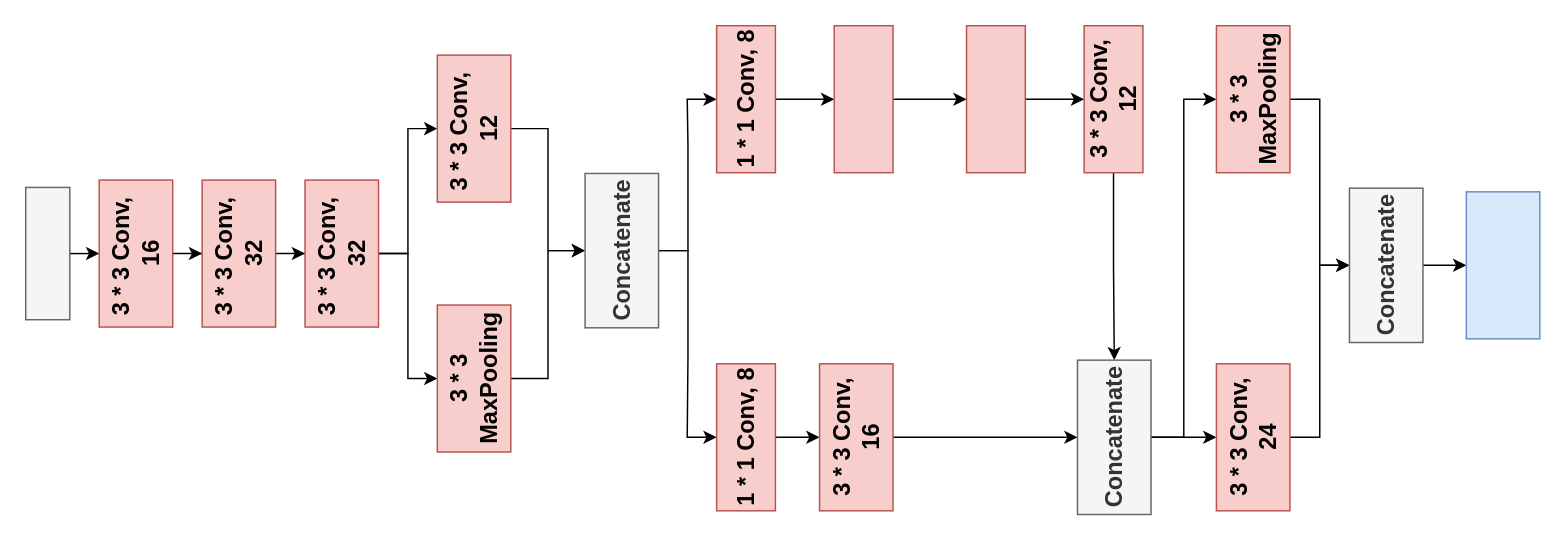
This 1566x541 diagram has some shape labels left out. Each missing label, with the centre of its shape:
1 * 7 Conv, 8: (995,98)
7 * 1 Conv, 8: (863,98)
Input: (47,253)
ReLU: (1502,264)
